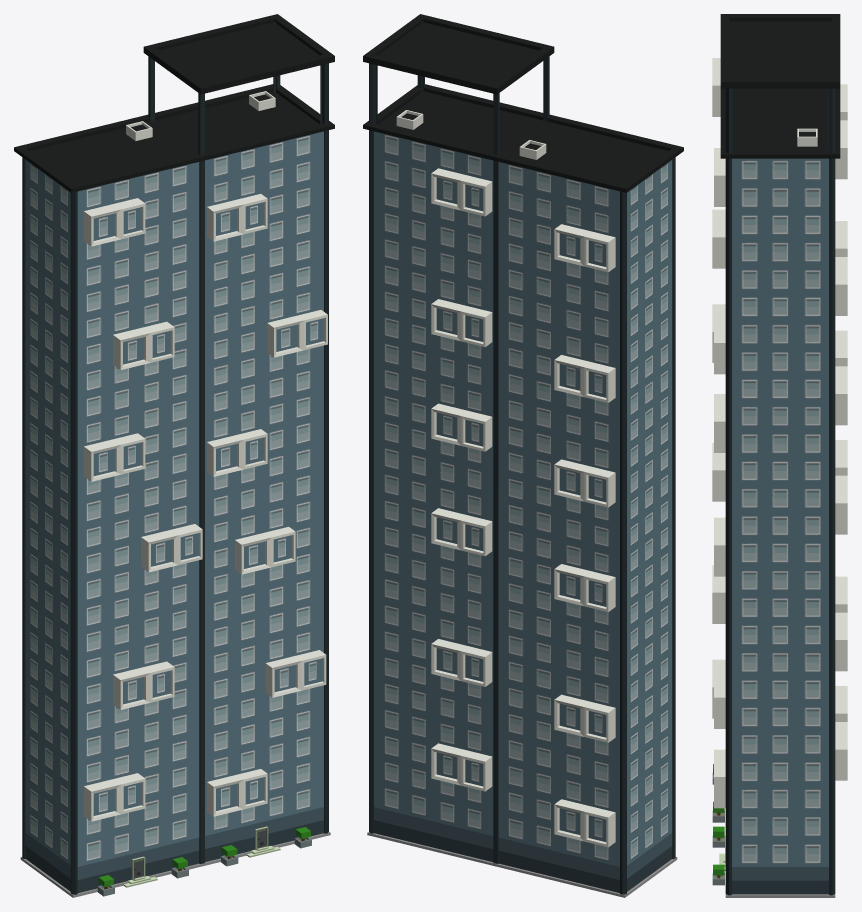
File: Pair House Highest.fbx
3 renders of one model, left to right at view 1: azimuth 30°, elevation 25°; view 2: azimuth 150°, elevation 25°; view 3: azimuth 270°, elevation 25°, orthographic. The views are drawn at different scales.
Visible parts, largest first — view 1: Pair House Highest; view 2: Pair House Highest; view 3: Pair House Highest.
Boxes of the visible parts, x1,y1,x2,y2 form: Pair House Highest: (14, 14, 334, 897); Pair House Highest: (363, 14, 683, 897); Pair House Highest: (712, 14, 847, 897).
Bounding box in the file's own units: 10.71 × 30.29 × 4.56.
